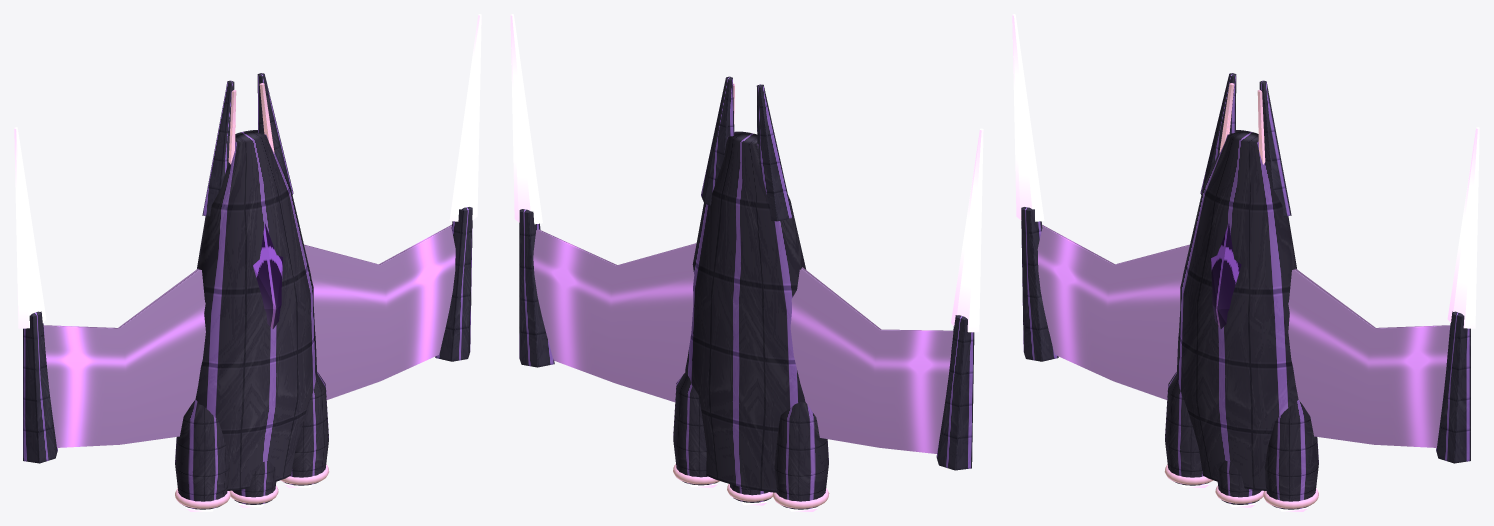
The model's file is ship_a2_phantom.glb.
3 renders of one model, left to right at view 1: azimuth 30°, elevation 25°; view 2: azimuth 150°, elevation 25°; view 3: azimuth 330°, elevation 25°, orthographic.
Parts seen in each view (by area): view 1: ship_a2_phantom; view 2: ship_a2_phantom; view 3: ship_a2_phantom.
Boxes of the visible parts, x1,y1,x2,y2 form: ship_a2_phantom: [14, 14, 481, 511]; ship_a2_phantom: [510, 14, 983, 511]; ship_a2_phantom: [1012, 14, 1479, 511].
Size of the model in its own units: 3.99 by 3.52 by 0.577.
Materials: 5 (5 with a texture image).
